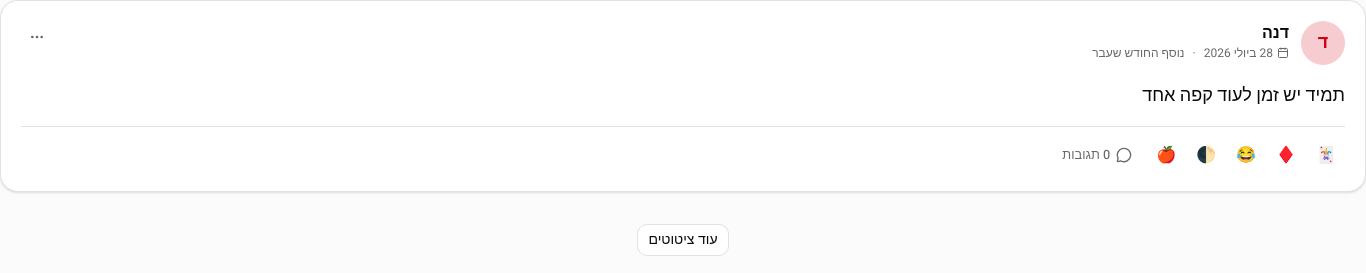
QuoteFeed › gives up gracefully when loading more fails
This screenshot has width=1366, height=273.
Click the button "עוד ציטוטים" at {"x": 683, "y": 240}, box [638, 224, 729, 256]
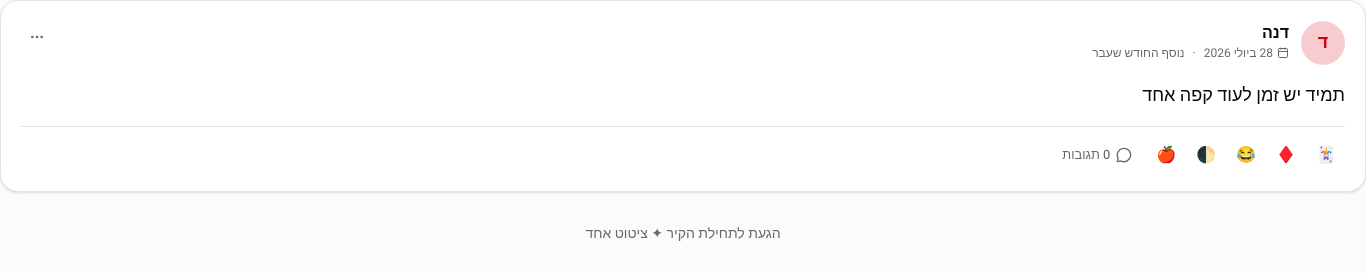
Expected: the text "תמיד יש זמן לעוד קפה אחד" is shown, [1142, 82, 1345, 109]
Now the button "עוד ציטוטים" is gone
